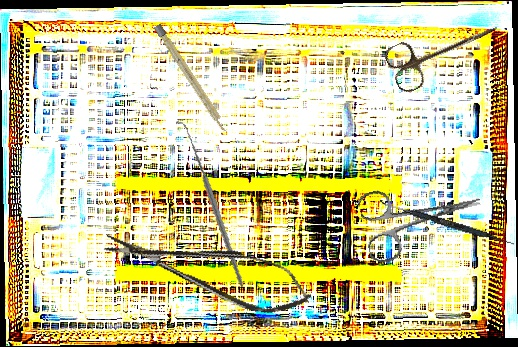Hook Surgical: (147, 121, 272, 287)
Iris Scissors: (356, 168, 489, 266), (381, 3, 507, 96)
Micro Scissor: (99, 211, 317, 327)
Scalpel Handle: (153, 23, 230, 135)
Spatula Surgical: (377, 199, 516, 247)
